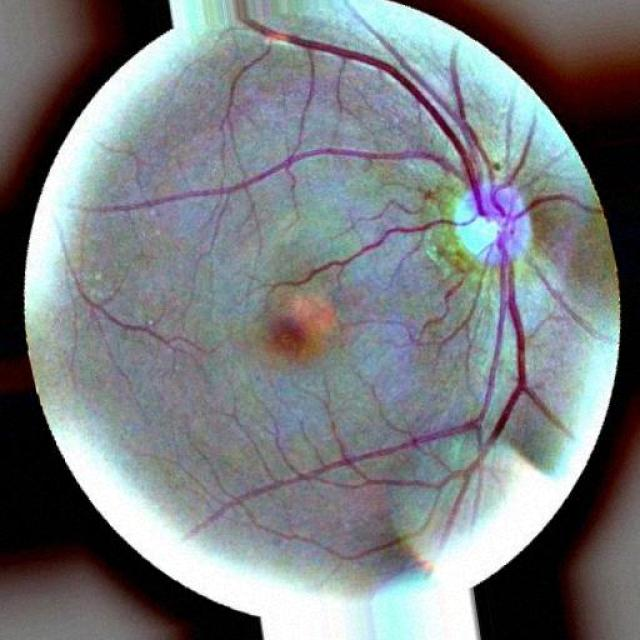Macula: (268, 295, 335, 360)
Nerves: (99, 0, 600, 540)
Optic Disk: (452, 182, 530, 264)
